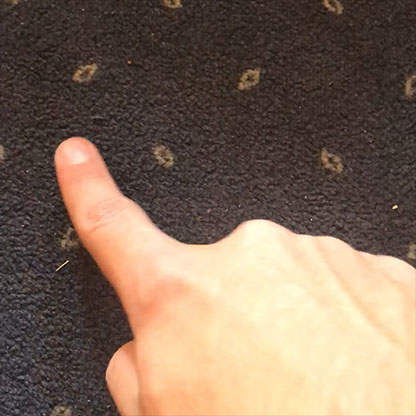fingertip: (46, 133, 101, 176)
